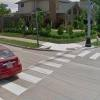Crosswalk: (27, 43, 66, 86)
